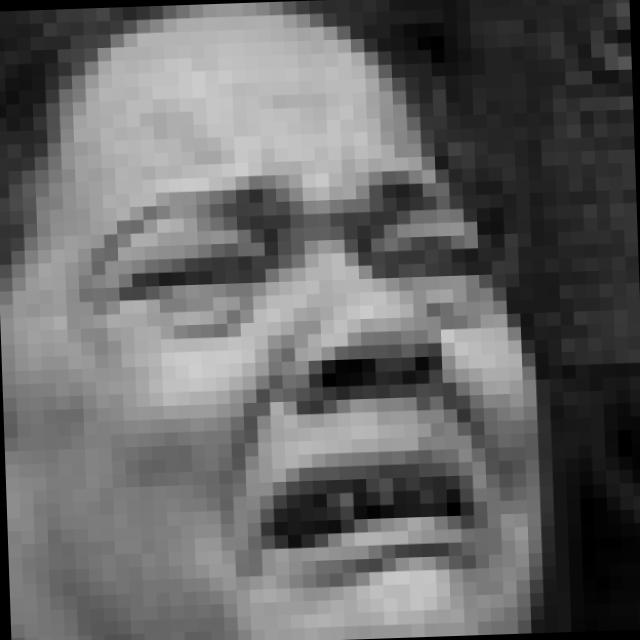sad: (66, 151, 527, 612)
